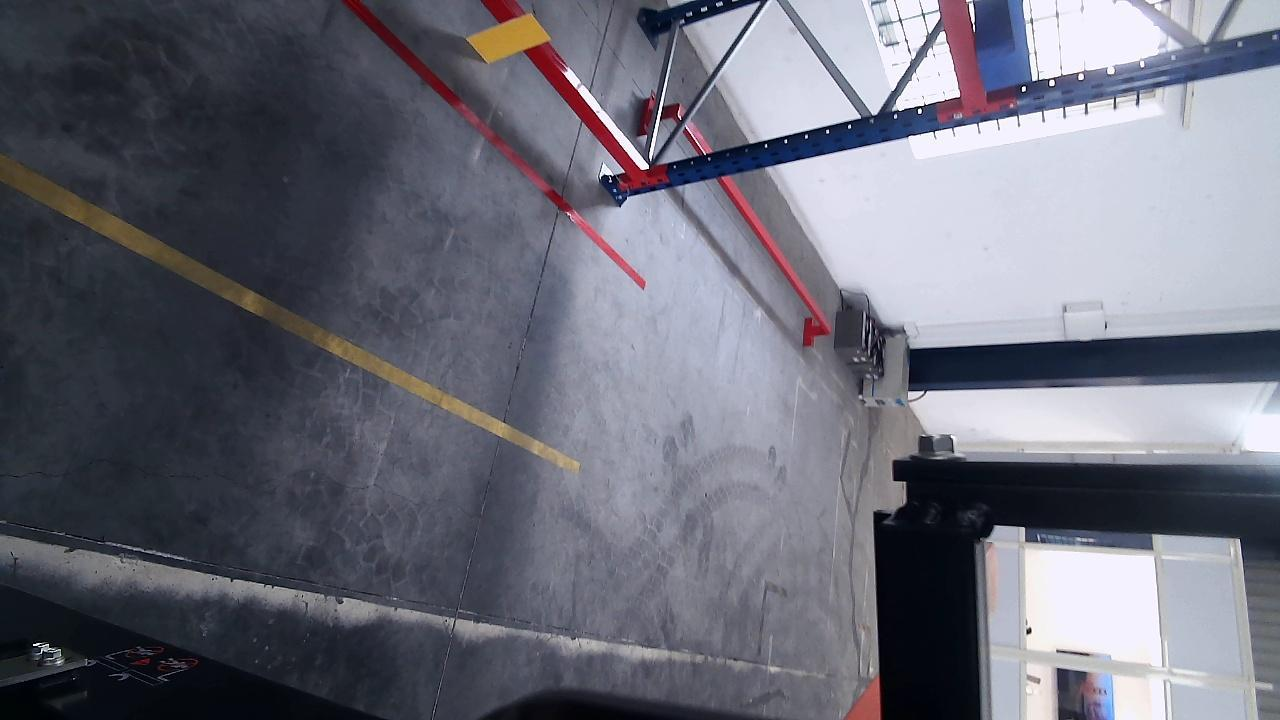h_rack: (479, 0, 643, 176)
orange_strip: (468, 12, 552, 65)
red_line: (342, 0, 647, 290)
yellow_line: (0, 144, 579, 477)
